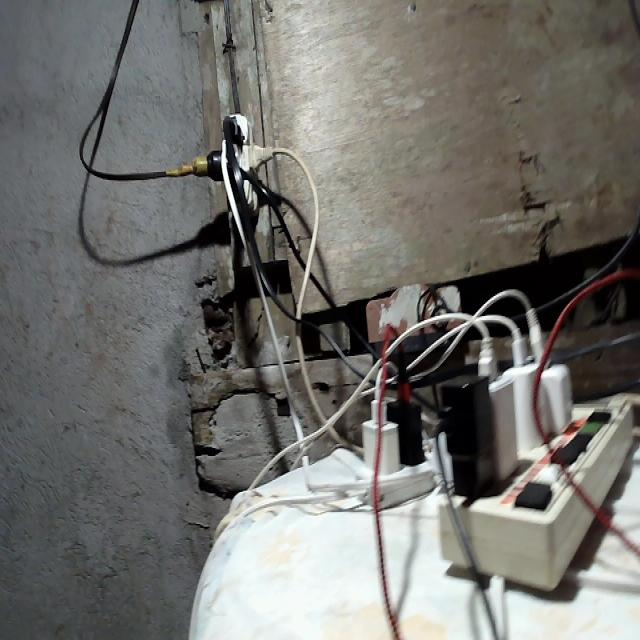-: (190, 115, 277, 220)
